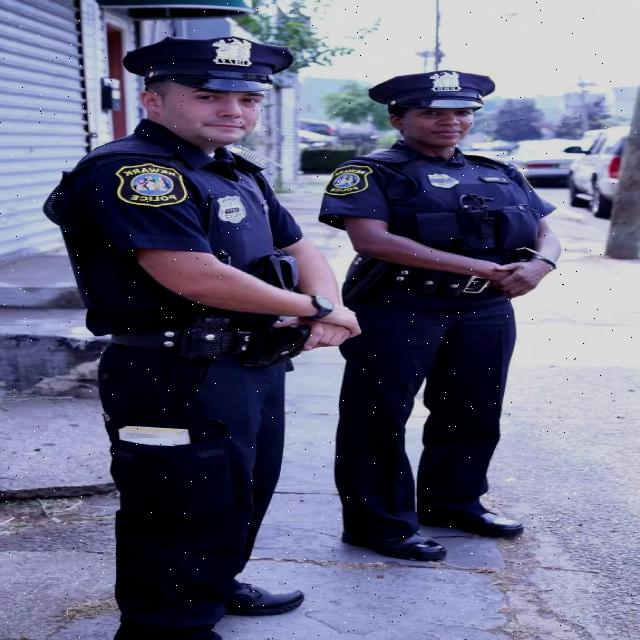police: (70, 2, 336, 640), (333, 21, 627, 576)
